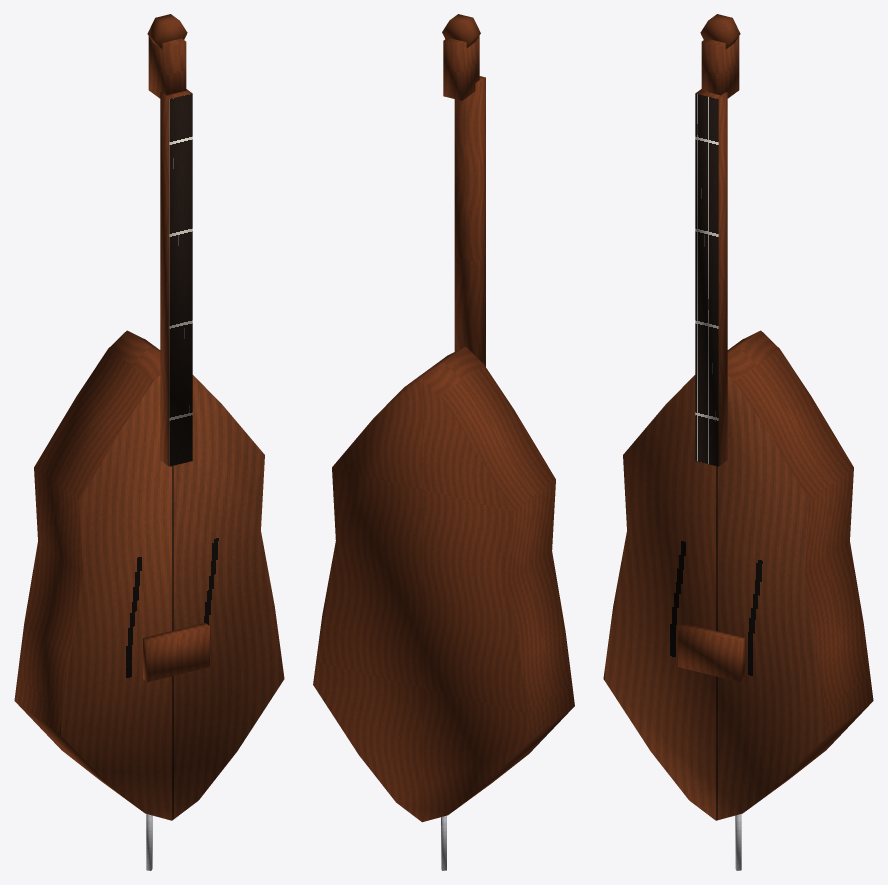
The model's file is upright_bass_1.glb.
3 views of the same model, side by side, from view 1: azimuth 30°, elevation 25°; view 2: azimuth 150°, elevation 25°; view 3: azimuth 330°, elevation 25° (orthographic). The views are drawn at different scales.
Parts seen in each view (by area): view 1: upright_bass_1; view 2: upright_bass_1; view 3: upright_bass_1.
Part boxes in pixels (box(x1,y1,x2,y2)): upright_bass_1: box(14, 14, 284, 870); upright_bass_1: box(313, 14, 574, 870); upright_bass_1: box(603, 14, 873, 870).
Size of the model in its own units: 0.5765 by 2.11 by 0.24.
4 materials, 4 textured.
